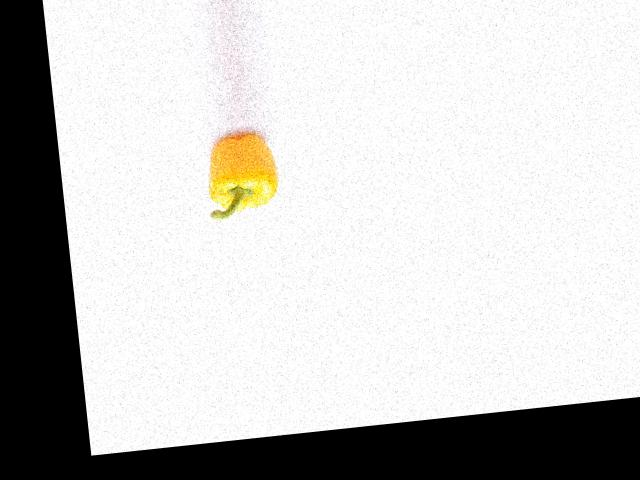bell_pepper: (199, 129, 288, 218)
